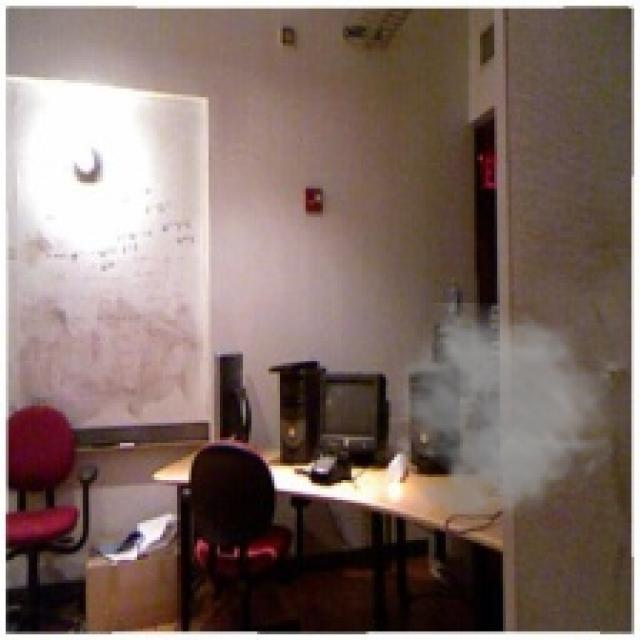smoke: (389, 303, 620, 534)
